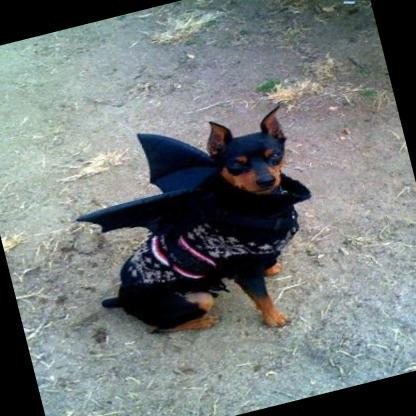miniature_pinscher: (51, 91, 344, 370)
